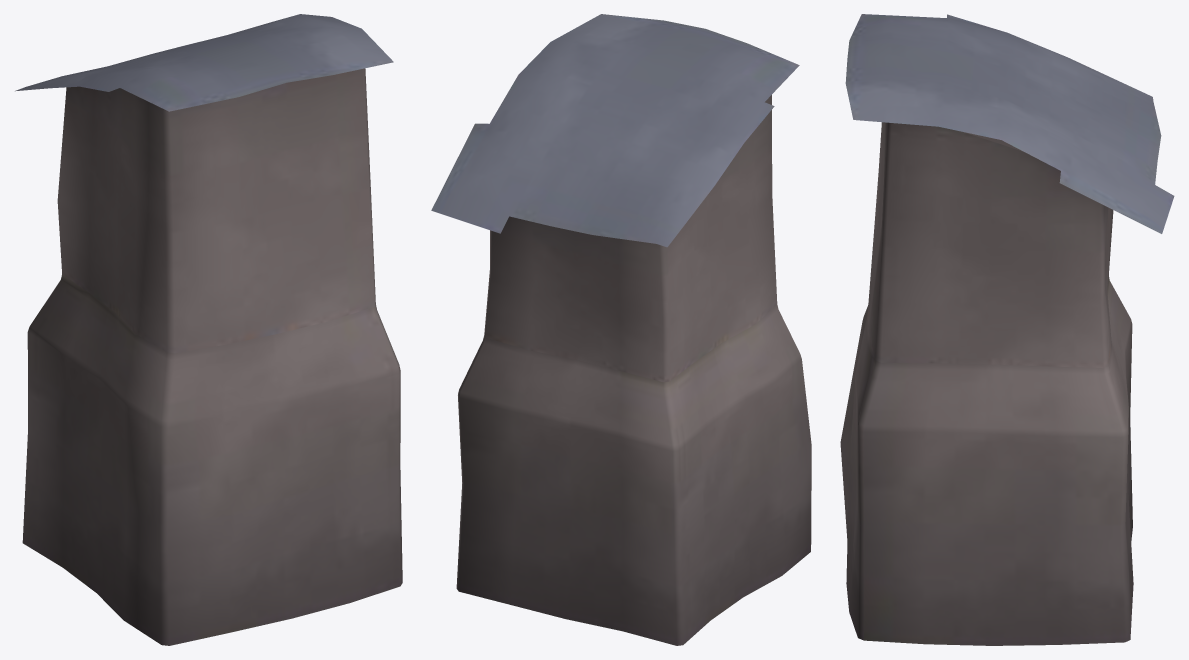
The model's file is MSH_Building_004.glb.
3 views of the same model, side by side, from view 1: azimuth 30°, elevation 25°; view 2: azimuth 150°, elevation 25°; view 3: azimuth 270°, elevation 25° (orthographic). The views are drawn at different scales.
Visible parts, largest first — view 1: Base.016; view 2: Base.016; view 3: Base.016.
Boxes of the visible parts, box(x1,y1,x2,y2) form: Base.016: box(15, 14, 402, 645); Base.016: box(431, 14, 811, 645); Base.016: box(840, 14, 1174, 645).
Bounding box in the file's own units: 5.6 × 10.74 × 6.2.
Materials: 1 (1 with a texture image).
